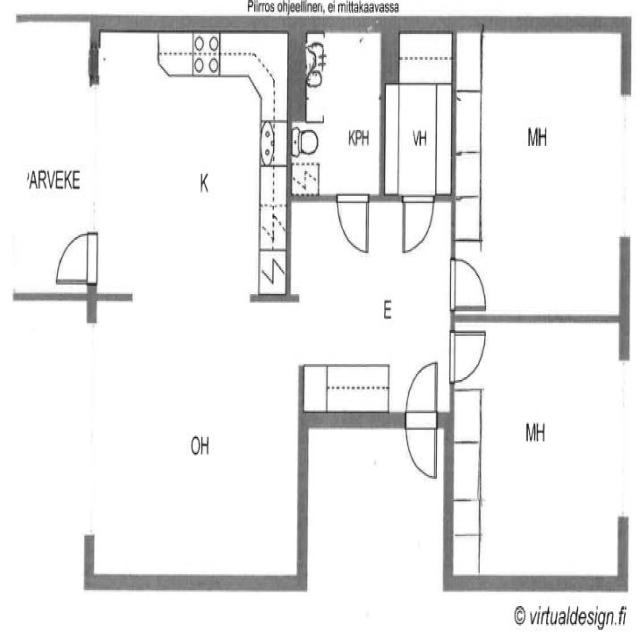door: (399, 354, 443, 482), (448, 251, 489, 385), (50, 226, 100, 290), (447, 250, 492, 312), (447, 323, 489, 385), (398, 190, 436, 258), (335, 190, 371, 259), (238, 50, 280, 100)
window: (608, 350, 637, 528), (612, 88, 636, 250), (76, 421, 103, 548), (0, 4, 23, 32)
zone: (90, 291, 296, 589), (454, 26, 626, 316), (449, 312, 627, 588), (95, 29, 273, 299), (291, 200, 455, 418), (0, 16, 93, 297), (291, 23, 383, 198), (383, 28, 455, 198)
